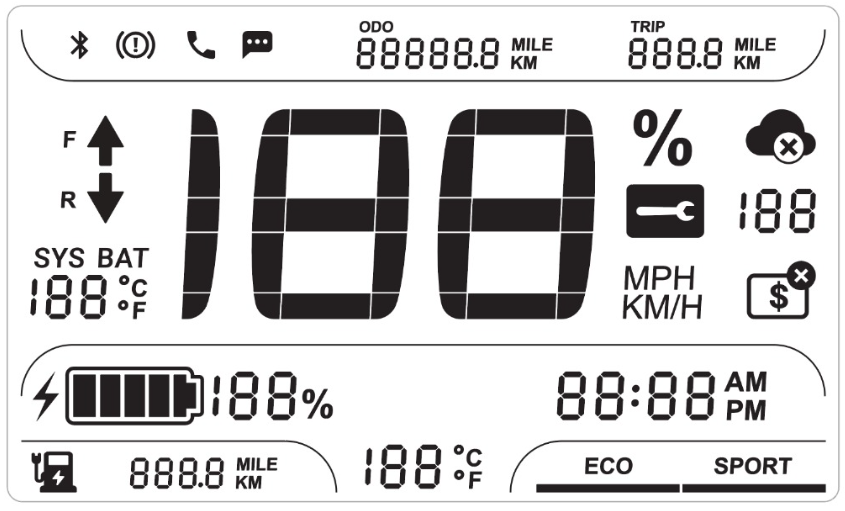bluetooth_on: (67, 27, 92, 61)
braking_on: (113, 26, 159, 64)
calling_on: (183, 26, 218, 62)
connection_lost: (743, 106, 819, 168)
error_code: (623, 181, 706, 240)
low_battery: (27, 448, 82, 496)
sms_on: (239, 28, 275, 62)
vin_id: (743, 259, 818, 323)
